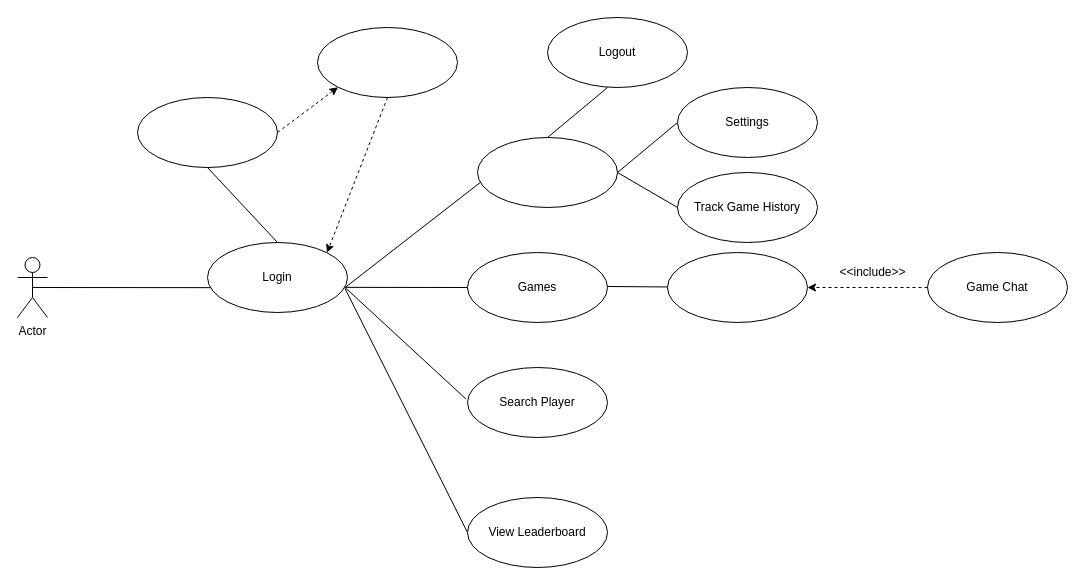
The diagram is 1085 pixels wide and 585 high, and some of its shapes have lost their labels. The shapes that lost their labels are listed below. From the top down, each one's box as (x1, y1, x2, y2) in pixels, then its label:
(316, 26, 458, 98): Database
(136, 96, 278, 168): Sign Up
(476, 136, 618, 208): Menu
(666, 252, 808, 322): Join Game
